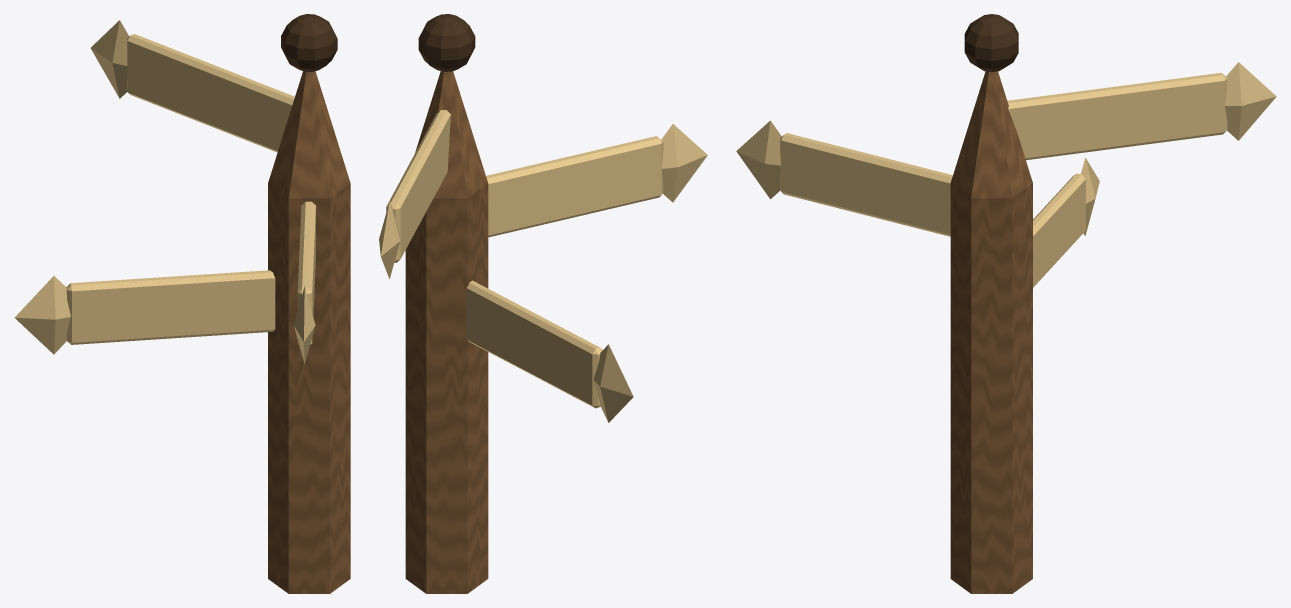
The model's file is Signpost.glb.
3 renders of one model, left to right at view 1: azimuth 30°, elevation 25°; view 2: azimuth 150°, elevation 25°; view 3: azimuth 270°, elevation 25°, orthographic.
Visible parts, largest first — view 1: Signpost; view 2: Signpost; view 3: Signpost.
Boxes of the visible parts, <box> form: Signpost: <box>14,14,350,593</box>; Signpost: <box>379,14,707,593</box>; Signpost: <box>736,14,1276,593</box>.
Bounding box in the file's own units: 1.72 × 3.41 × 2.97.
Materials: 1 (1 with a texture image).
